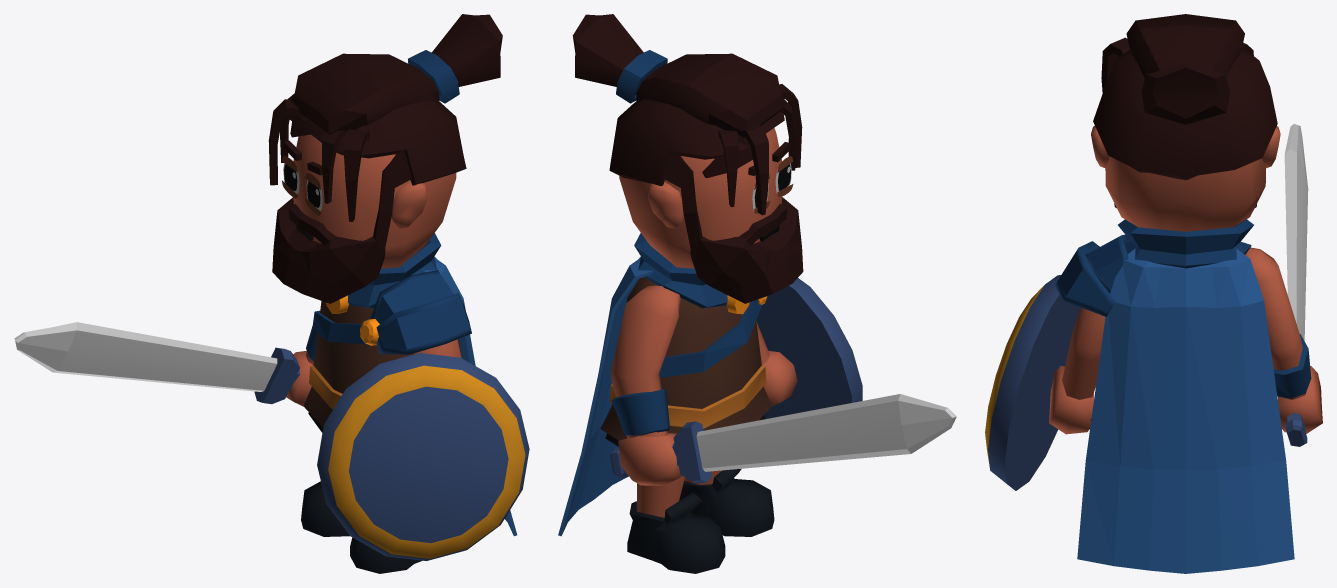
File: Player.fbx
3 views of the same model, side by side, from view 1: azimuth 30°, elevation 25°; view 2: azimuth 150°, elevation 25°; view 3: azimuth 270°, elevation 25° (orthographic). The views are drawn at different scales.
Parts seen in each view (by area): view 1: Cylinder033, Plane056, Box192, Box186, Box187, Box191, Box188, Box193, Box189, Box197, Cylinder034, Plane061 (+7 smaller); view 2: Plane056, Box192, Box189, Box188, Box190, Cylinder033, Box186, Box187, Box191, Plane057, Cylinder034, Plane063 (+8 smaller); view 3: Plane057, Box191, Cylinder033, Box192, Box190, Box187, Plane056, Cylinder034, Box193, Box197, Object010, Box194 (+1 smaller).
Part boxes in pixels (left/top/right/bottom): Cylinder033: left=317, top=353, right=529, bottom=560; Plane056: left=14, top=322, right=300, bottom=404; Box192: left=291, top=14, right=502, bottom=134; Box186: left=272, top=151, right=411, bottom=303; Box187: left=293, top=134, right=456, bottom=268; Box191: left=289, top=100, right=466, bottom=185; Box188: left=303, top=301, right=461, bottom=432; Box193: left=376, top=293, right=471, bottom=354; Box189: left=301, top=481, right=422, bottom=573; Box197: left=370, top=270, right=453, bottom=324; Cylinder034: left=348, top=233, right=441, bottom=308; Plane061: left=343, top=129, right=369, bottom=221; Plane056: left=610, top=394, right=956, bottom=483; Box192: left=572, top=14, right=786, bottom=138; Box189: left=627, top=468, right=774, bottom=573; Box188: left=600, top=277, right=771, bottom=446; Box190: left=610, top=285, right=797, bottom=485; Cylinder033: left=756, top=278, right=862, bottom=418; Box186: left=664, top=154, right=803, bottom=303; Box187: left=619, top=128, right=782, bottom=268; Box191: left=609, top=98, right=784, bottom=186; Plane057: left=558, top=256, right=653, bottom=536; Cylinder034: left=634, top=233, right=727, bottom=308; Plane063: left=659, top=299, right=761, bottom=377; Plane057: left=1077, top=248, right=1294, bottom=573; Box191: left=1093, top=48, right=1277, bottom=180; Cylinder033: left=985, top=275, right=1080, bottom=490; Box192: left=1126, top=14, right=1244, bottom=124; Box190: left=1049, top=247, right=1322, bottom=434; Box187: left=1105, top=156, right=1265, bottom=231; Plane056: left=1284, top=124, right=1308, bottom=446; Cylinder034: left=1118, top=219, right=1253, bottom=268; Box193: left=1055, top=241, right=1115, bottom=316; Box197: left=1086, top=234, right=1130, bottom=293; Object010: left=1273, top=334, right=1311, bottom=398; Box194: left=1091, top=126, right=1280, bottom=168.
Bounding box in the file's own units: 75 × 83.93 × 49.2.
